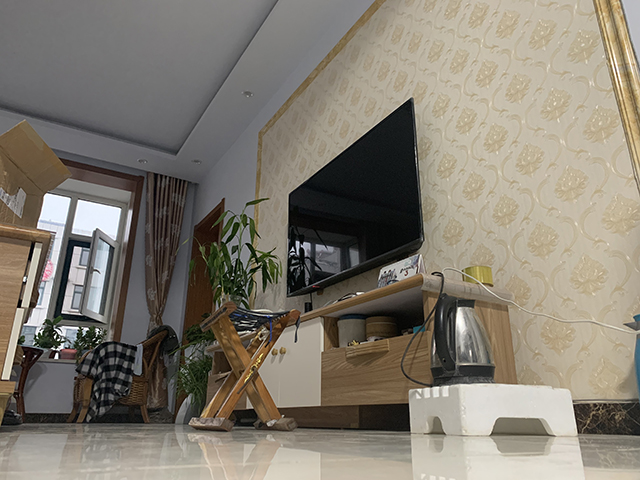cabinet: (203, 272, 518, 432)
curtain: (144, 170, 190, 415)
stool: (187, 300, 302, 433), (66, 328, 169, 425)
wire: (446, 265, 640, 334), (400, 269, 446, 386)
